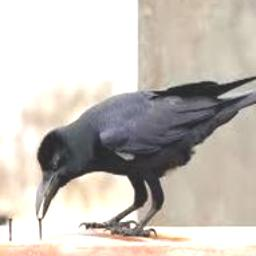Crow: (36, 72, 256, 238)
